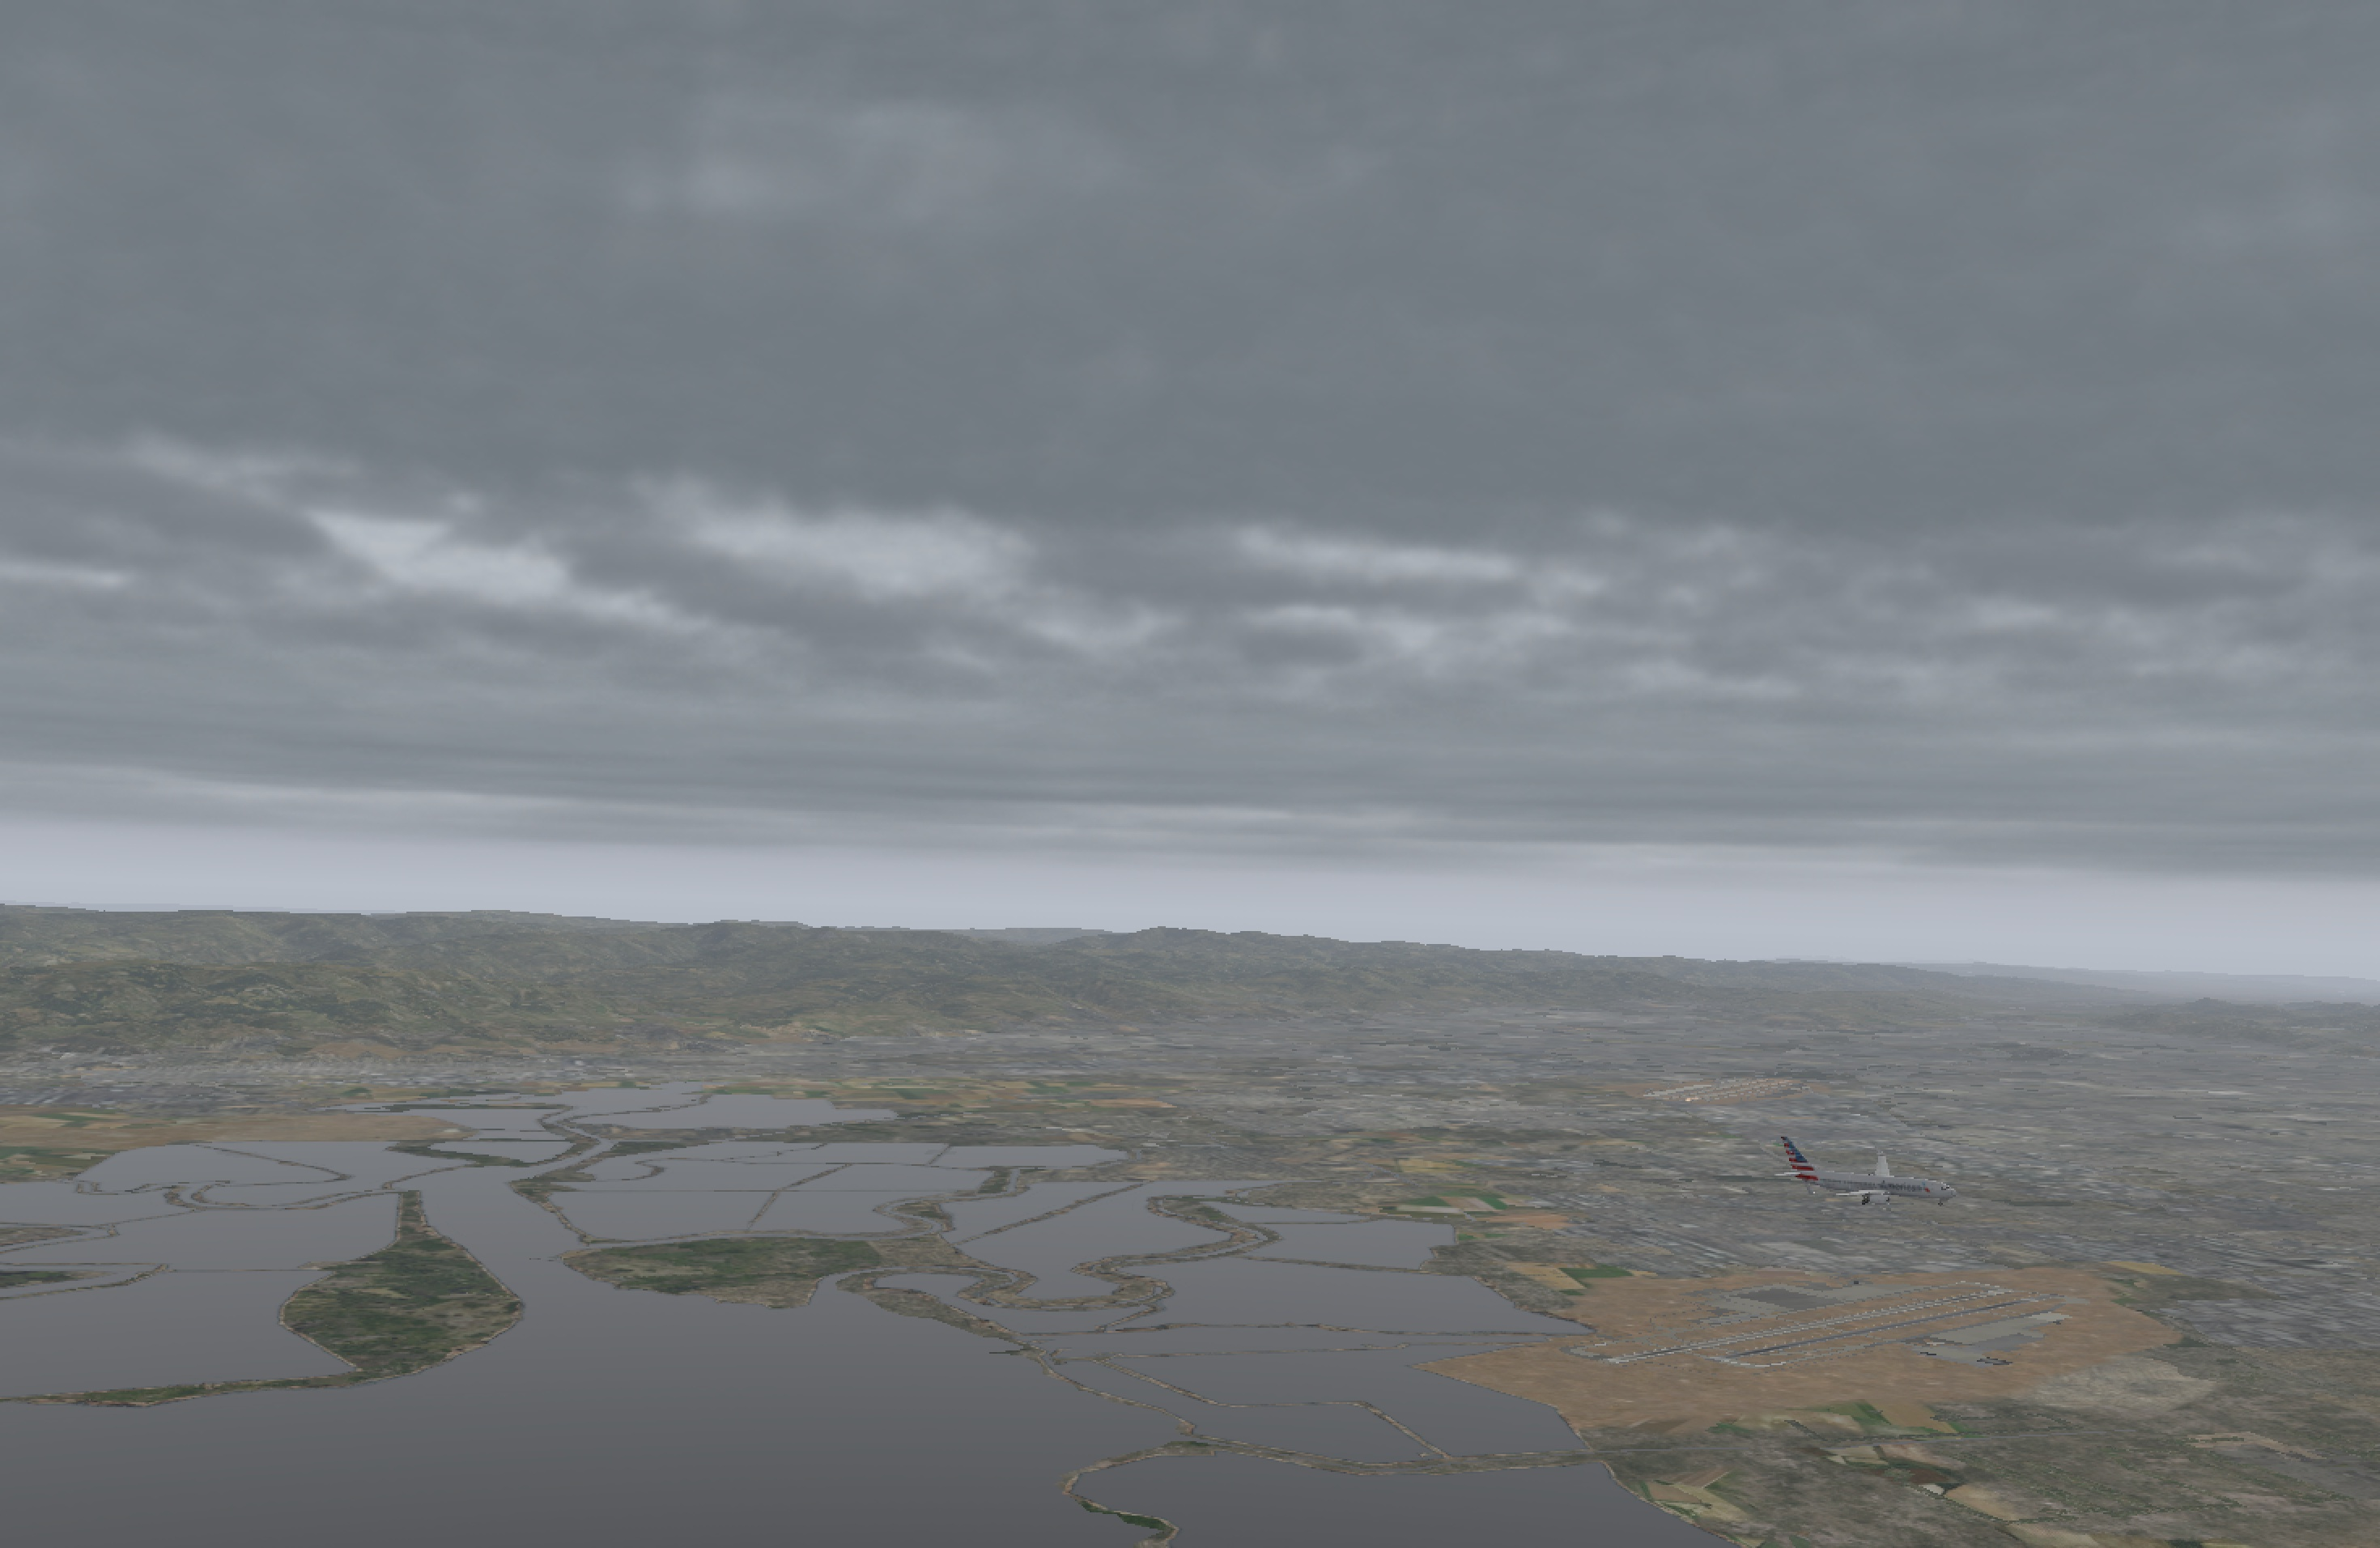aircraft: (1790, 1156, 1960, 1218)
